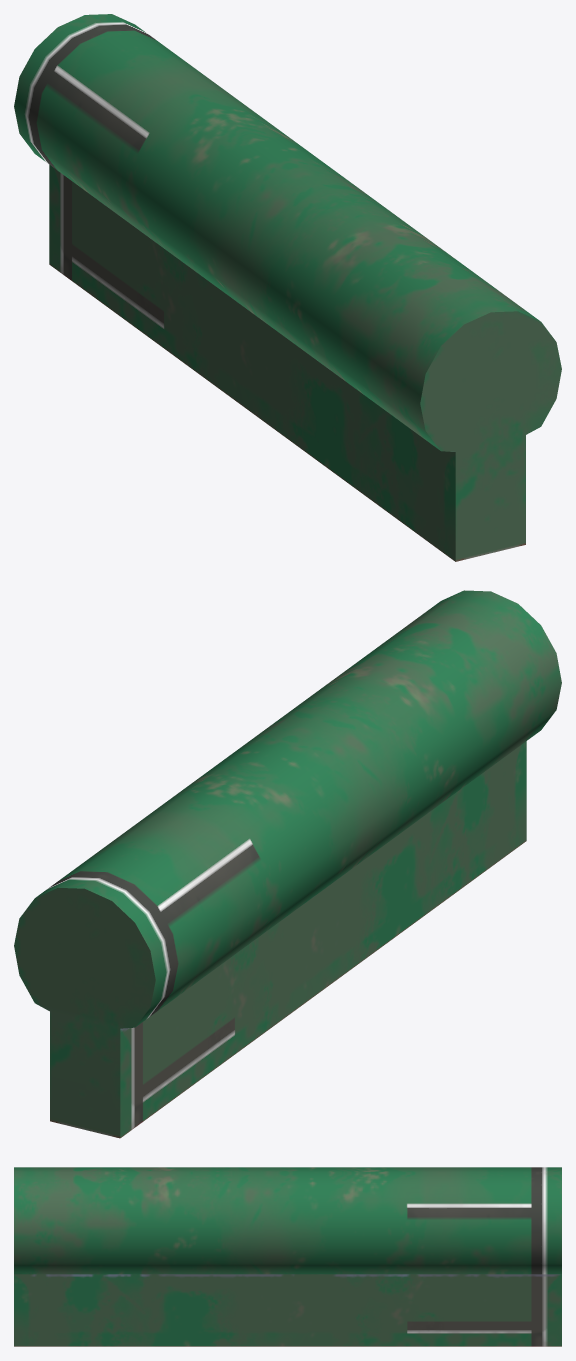
The model's file is SM_Purlin04c.fbx.
The picture shows the model from 3 angles, top to bottom: view 1: azimuth 30°, elevation 25°; view 2: azimuth 150°, elevation 25°; view 3: azimuth 270°, elevation 25°; orthographic projection. The views are drawn at different scales.
Visible parts, largest first — view 1: SM_Purlin04c; view 2: SM_Purlin04c; view 3: SM_Purlin04c.
Boxes of the visible parts, bbox=[...] form: SM_Purlin04c: bbox=[14, 14, 561, 561]; SM_Purlin04c: bbox=[14, 590, 561, 1138]; SM_Purlin04c: bbox=[14, 1167, 561, 1346].
Bounding box in the file's own units: 20.15 × 100 × 32.73.
Materials: 1 (1 with a texture image).
